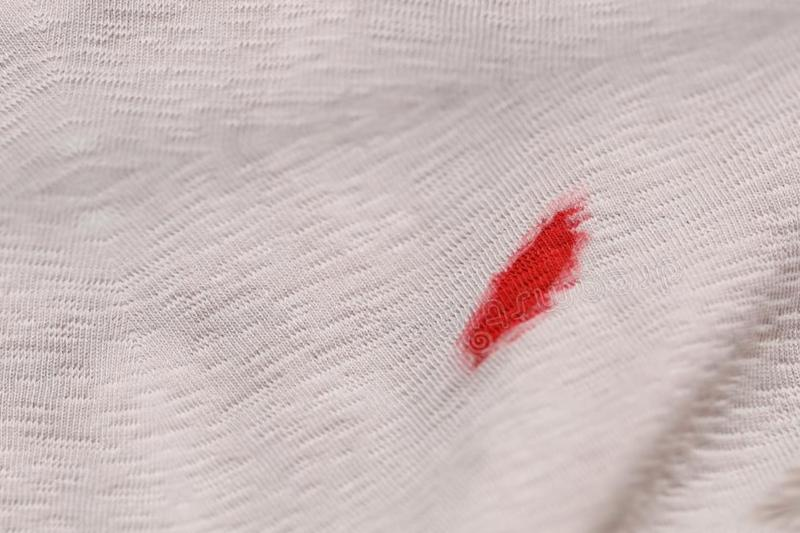stain: (458, 195, 593, 374)
